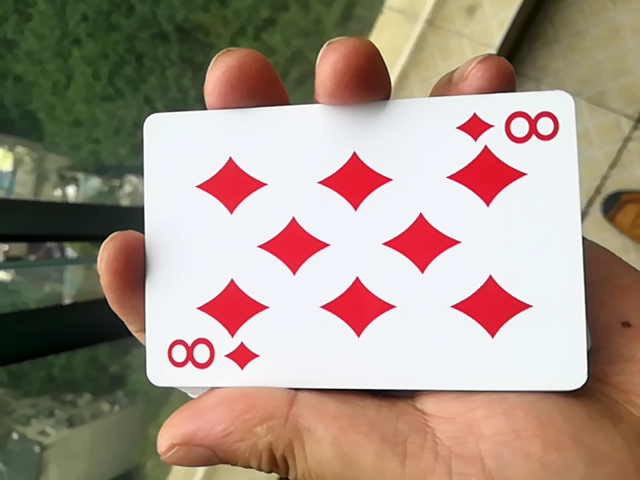fk 8: (125, 104, 576, 414)
